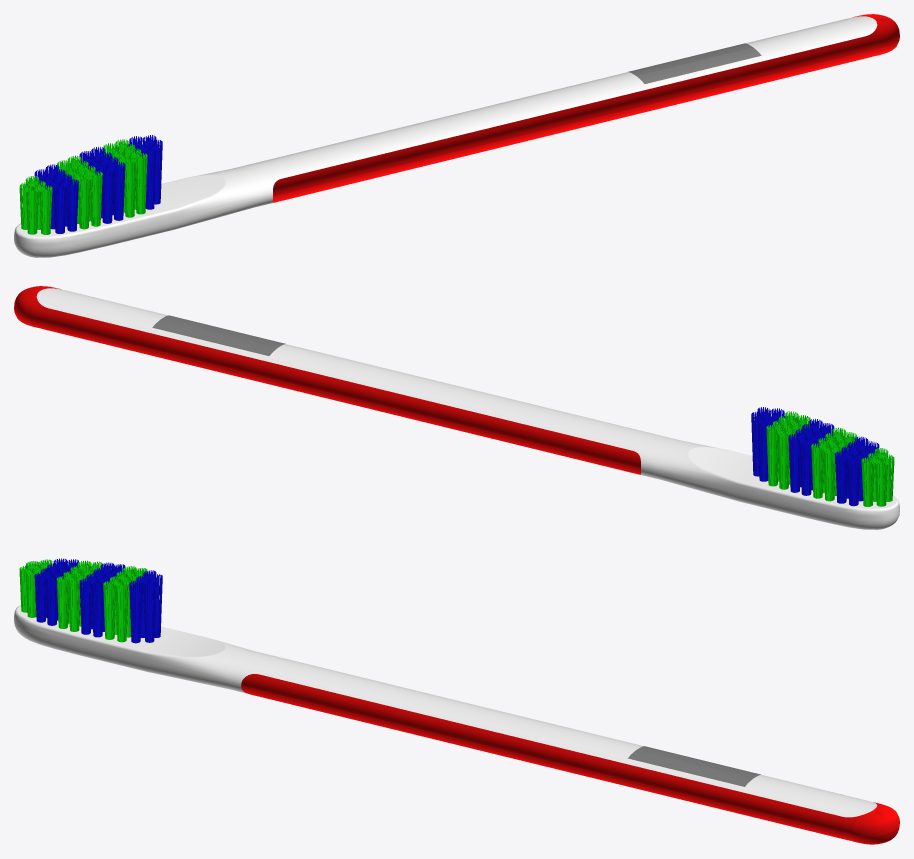
Rendered from professional-27.fbx.
The picture shows the model from 3 angles, top to bottom: view 1: azimuth 30°, elevation 25°; view 2: azimuth 150°, elevation 25°; view 3: azimuth 330°, elevation 25°; orthographic projection.
Visible parts, largest first — view 1: body-primary, body-secondary, bristles-secondary, bristles-primary, logo; view 2: body-primary, body-secondary, bristles-secondary, bristles-primary, logo; view 3: body-primary, body-secondary, bristles-primary, bristles-secondary, logo.
Part boxes in pixels (left/top/right/bottom): body-primary: left=14, top=16, right=877, bottom=257; body-secondary: left=272, top=14, right=899, bottom=202; bristles-secondary: left=19, top=139, right=147, bottom=234; bristles-primary: left=34, top=135, right=162, bottom=233; logo: left=628, top=43, right=761, bottom=83; body-primary: left=36, top=288, right=899, bottom=529; body-secondary: left=14, top=286, right=641, bottom=474; bristles-secondary: left=766, top=411, right=894, bottom=506; bristles-primary: left=751, top=407, right=879, bottom=506; logo: left=152, top=315, right=285, bottom=355; body-primary: left=14, top=605, right=877, bottom=817; body-secondary: left=241, top=674, right=899, bottom=844; bristles-primary: left=34, top=558, right=162, bottom=643; bristles-secondary: left=19, top=559, right=147, bottom=642; logo: left=628, top=746, right=760, bottom=786.
Bounding box in the file's own units: 0.072 × 0.00669 × 0.00453.
